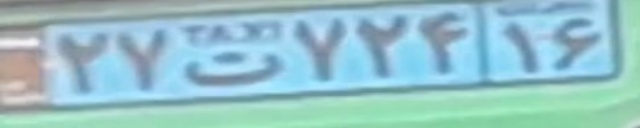1: (501, 21, 541, 72)
2: (357, 14, 408, 77), (59, 31, 108, 96)
4: (417, 11, 468, 73)
6: (549, 17, 601, 68)
7: (293, 17, 345, 82), (117, 26, 168, 89)
te: (184, 48, 281, 86)
